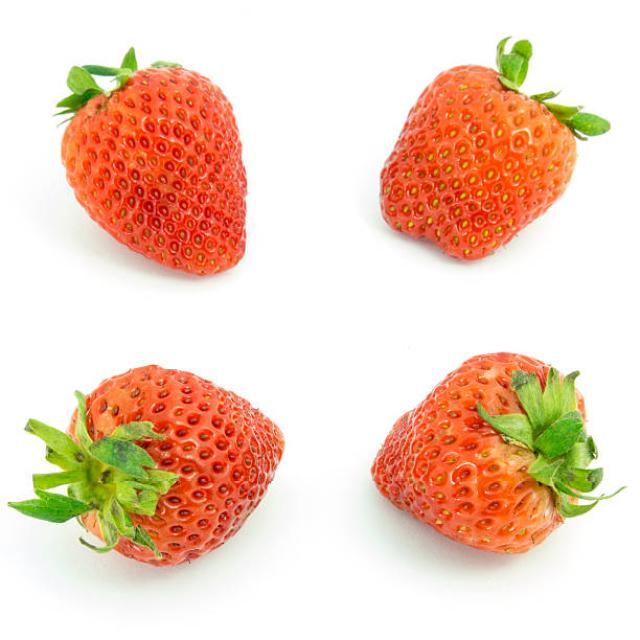Healthy Fruit: (67, 364, 287, 566), (372, 351, 588, 554), (59, 66, 249, 277), (380, 64, 576, 261)
